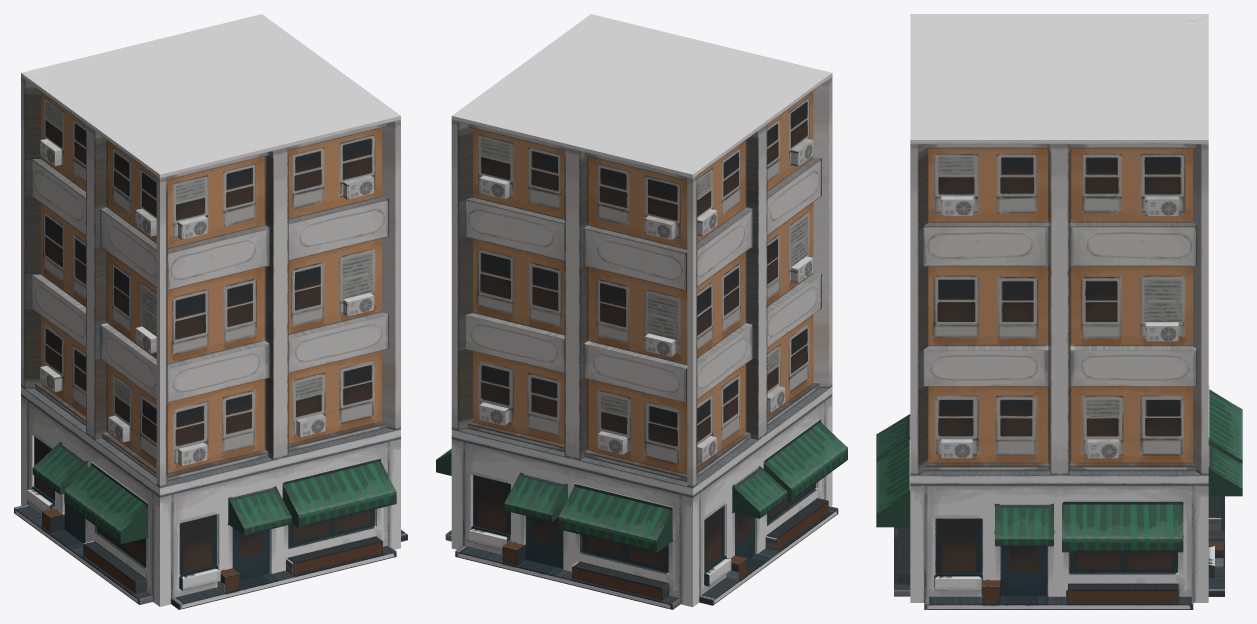
The model's file is predio1.fbx.
The picture shows the model from 3 angles, left to right: view 1: azimuth 30°, elevation 25°; view 2: azimuth 150°, elevation 25°; view 3: azimuth 270°, elevation 25°; orthographic projection. The views are drawn at different scales.
Visible parts, largest first — view 1: predio1_Texture.001; view 2: predio1_Texture.001; view 3: predio1_Texture.001.
Boxes of the visible parts, x1,y1,x2,y2 form: predio1_Texture.001: (14, 14, 407, 609); predio1_Texture.001: (436, 14, 847, 609); predio1_Texture.001: (876, 14, 1242, 609).
Size of the model in its own units: 123 by 172 by 123.
